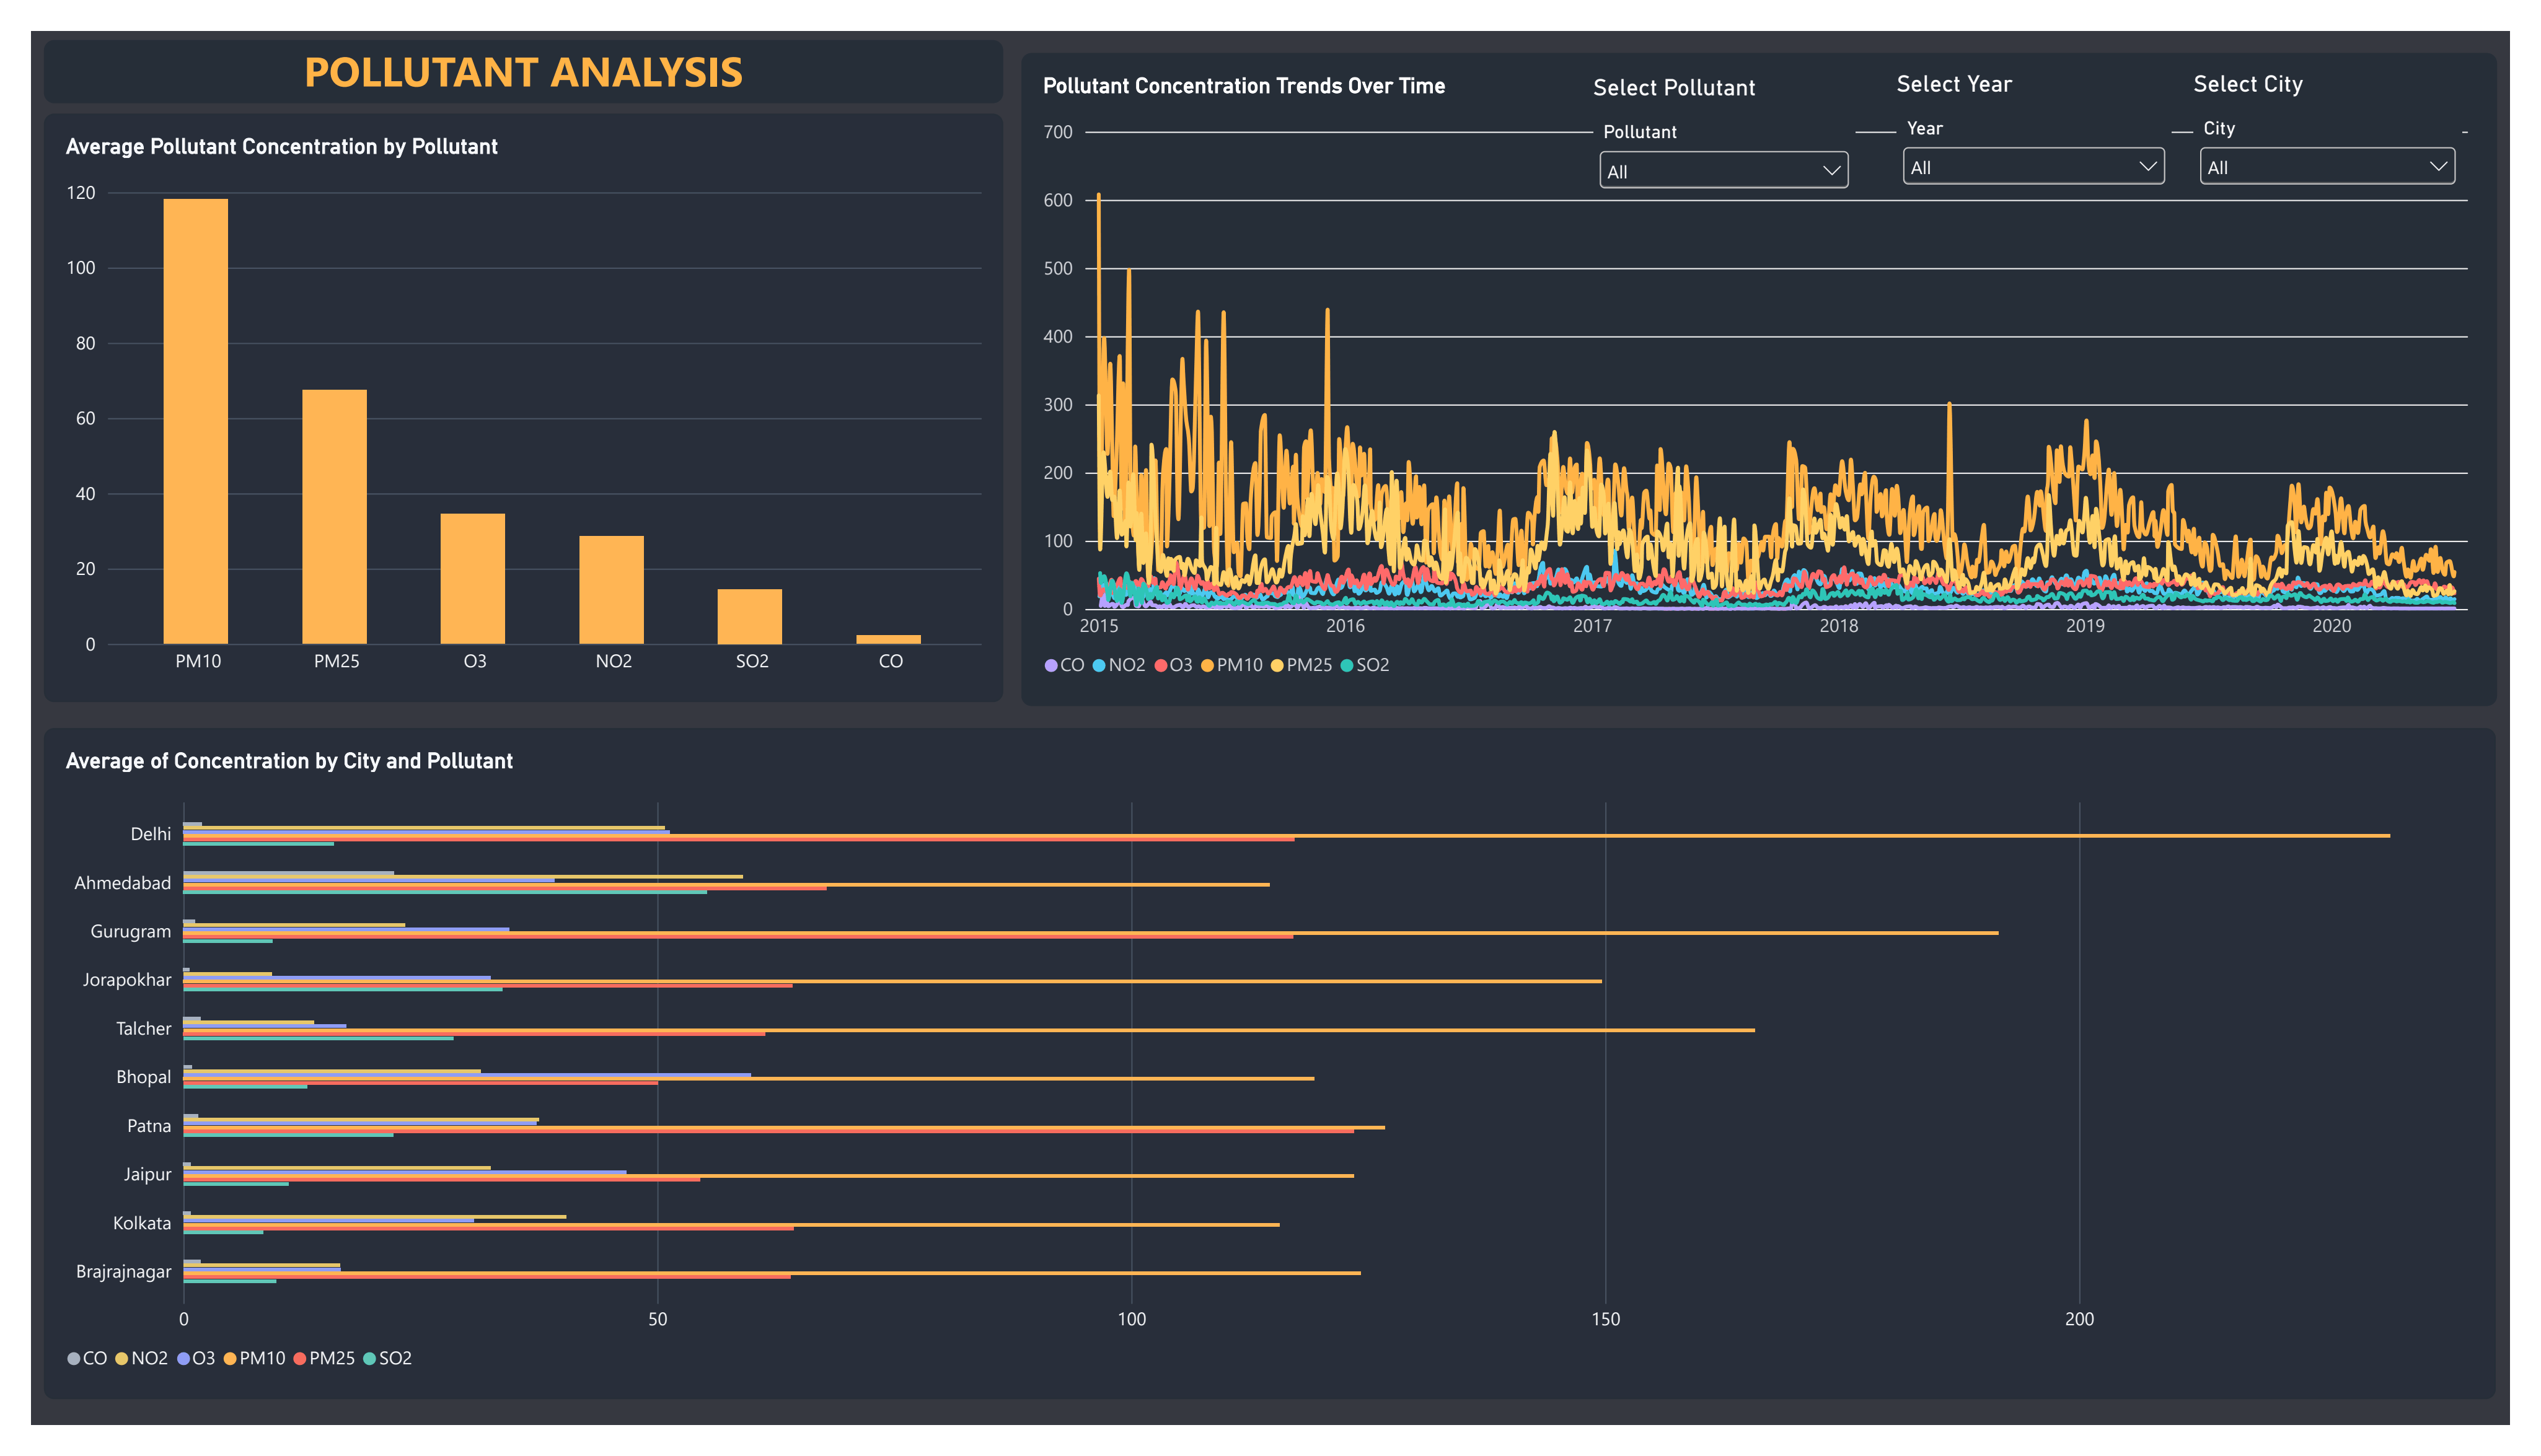

The page's visual inventory and layout, read from the dashboard file:
{"tool":"powerbi","page":{"name":"Pollutant Analysis","canvas":[1920,1080],"ordinal":1},"visuals":[{"type":"clusteredColumnChart","title":"Average Pollutant Concentration by Pollutant","fields":{"Category":["gold_pollutant_analysis.Pollutant"],"Y":["Avg(gold_pollutant_analysis.Concentration)"]},"box":[10,64,743,456],"z":0},{"type":"clusteredBarChart","title":"Average of Concentration by City and Pollutant","fields":{"Category":["gold_pollutant_analysis.City"],"Series":["gold_pollutant_analysis.Pollutant"],"Y":["Avg(gold_pollutant_analysis.Concentration)"]},"box":[10,540,1898.6,520],"z":1000},{"type":"lineChart","title":"Pollutant Concentration Trends Over Time","fields":{"Category":["gold_pollutant_analysis.Date"],"Series":["gold_pollutant_analysis.Pollutant"],"Y":["Avg(gold_pollutant_analysis.Concentration)"]},"box":[767.1,17.1,1142.9,505.7],"z":2000},{"type":"slicer","title":"Select City","fields":{"Values":["gold_pollutant_analysis.City"]},"box":[1675,30,207.5,97.5],"z":3000},{"type":"slicer","title":"Select Year","fields":{"Values":["DimDate.Year"]},"box":[1445,30,212.5,97.5],"z":4000},{"type":"slicer","title":"Select Pollutant","fields":{"Values":["gold_pollutant_analysis.Pollutant"]},"box":[1210,32.5,202.5,97.5],"z":5000},{"type":"textbox","box":[10,7.1,742.9,48.6],"z":6000}]}

Visuals, with their boxes on the page's 1920x1080 design canvas (x1, y1, x2, y2). These are canvas units, not pixel positions in the 2541x1456 screenshot, which may show the page scaled, cropped or inside an application window:
"Average Pollutant Concentration by Pollutant" clusteredColumnChart: region(10, 64, 753, 520)
"Average of Concentration by City and Pollutant" clusteredBarChart: region(10, 540, 1909, 1060)
"Pollutant Concentration Trends Over Time" lineChart: region(767, 17, 1910, 523)
"Select City" slicer: region(1675, 30, 1882, 128)
"Select Year" slicer: region(1445, 30, 1658, 128)
"Select Pollutant" slicer: region(1210, 32, 1412, 130)
textbox: region(10, 7, 753, 56)
